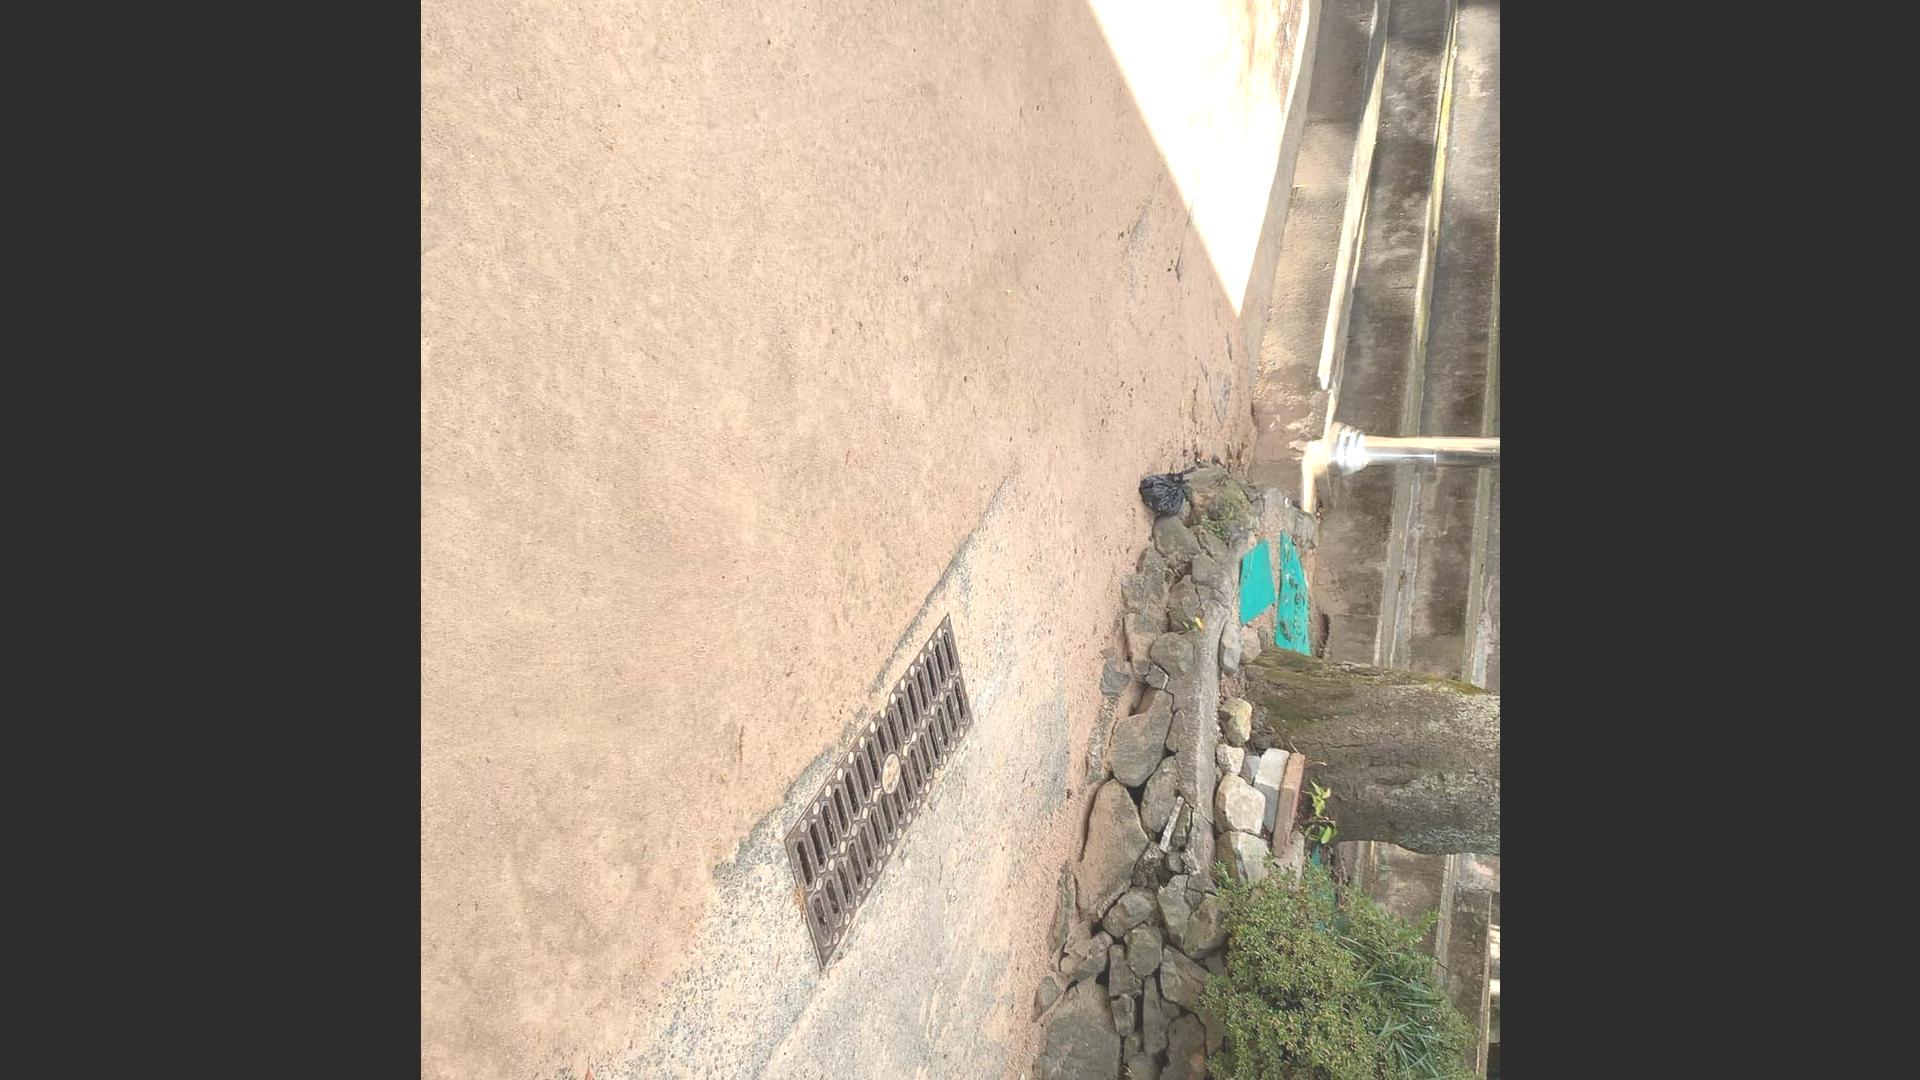black_bag: (1137, 459, 1203, 526)
